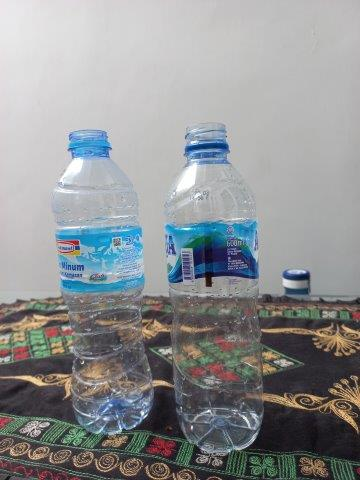botolplastik: (164, 121, 264, 452), (51, 128, 155, 434)
